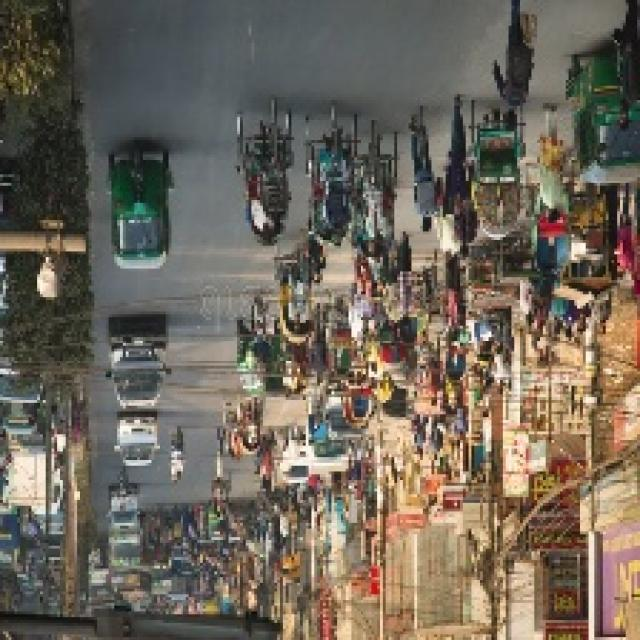bike: (167, 430, 187, 473)
car: (100, 320, 182, 406), (109, 412, 164, 472), (106, 481, 144, 530)
rickshaw: (233, 89, 300, 245), (462, 101, 533, 247), (306, 102, 358, 243), (347, 127, 401, 256), (275, 253, 322, 342), (318, 307, 357, 374), (241, 398, 266, 450), (207, 480, 233, 519)
